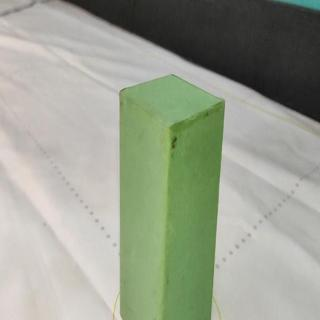greenbox: (119, 74, 226, 320)
